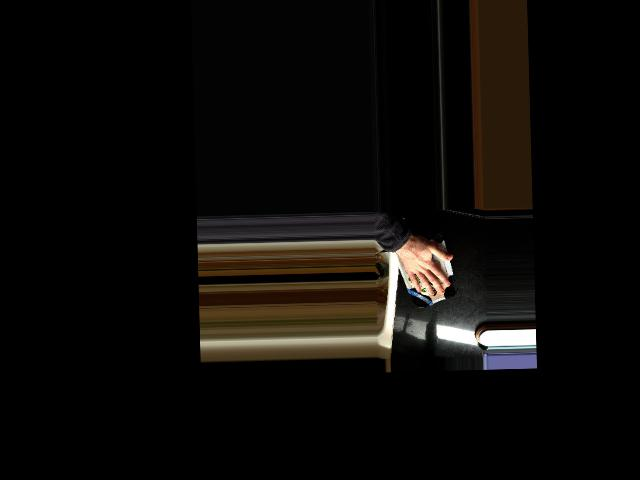cheese: (391, 231, 459, 309)
